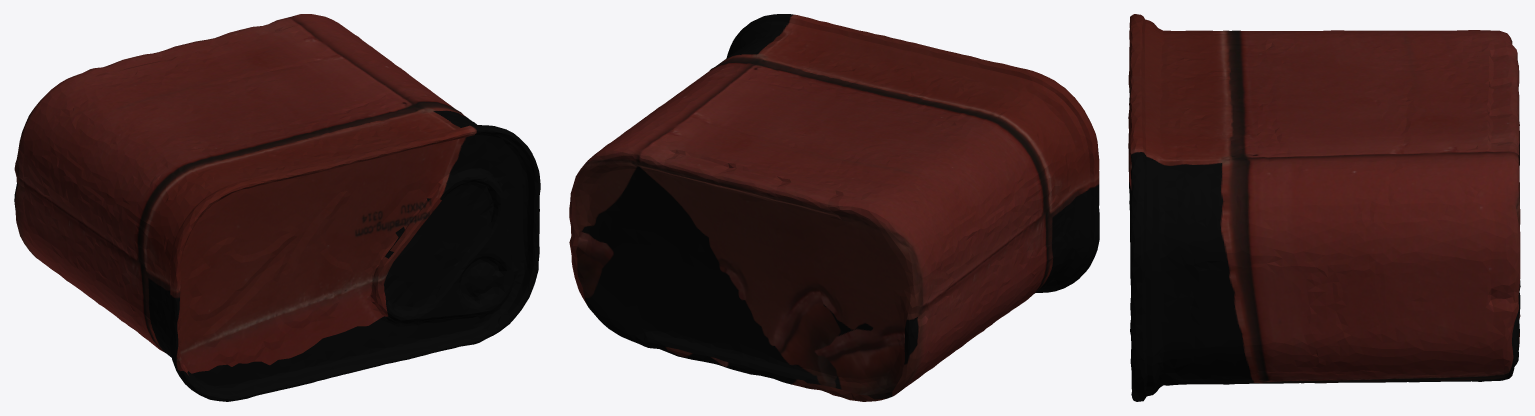
The picture shows the model from 3 angles, left to right: view 1: azimuth 30°, elevation 25°; view 2: azimuth 150°, elevation 25°; view 3: azimuth 270°, elevation 25°; orthographic projection. The views are drawn at different scales.
Bounding box in the file's own units: 0.1016 × 0.0576 × 0.0835.
